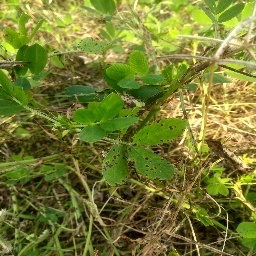GroundNut_Leaf: (132, 118, 191, 144), (131, 147, 176, 181), (102, 145, 128, 187), (95, 91, 124, 119), (24, 42, 48, 73), (217, 2, 246, 23), (128, 49, 150, 76), (76, 37, 106, 52)
